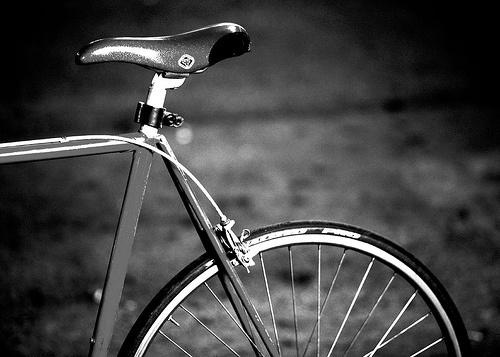bicycle: (1, 23, 471, 357)
